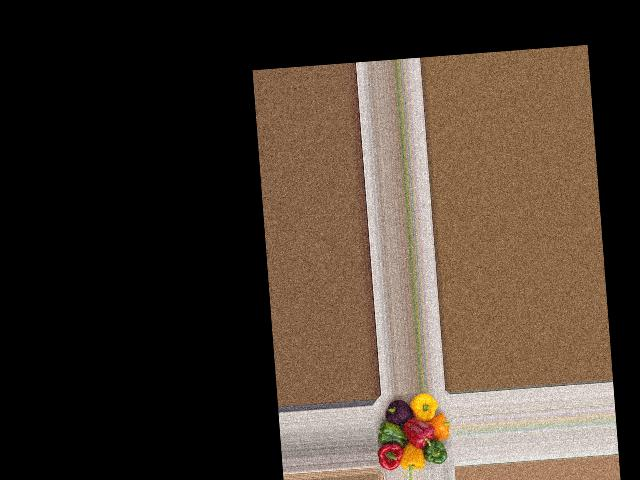bell_pepper: (377, 399, 414, 432)
